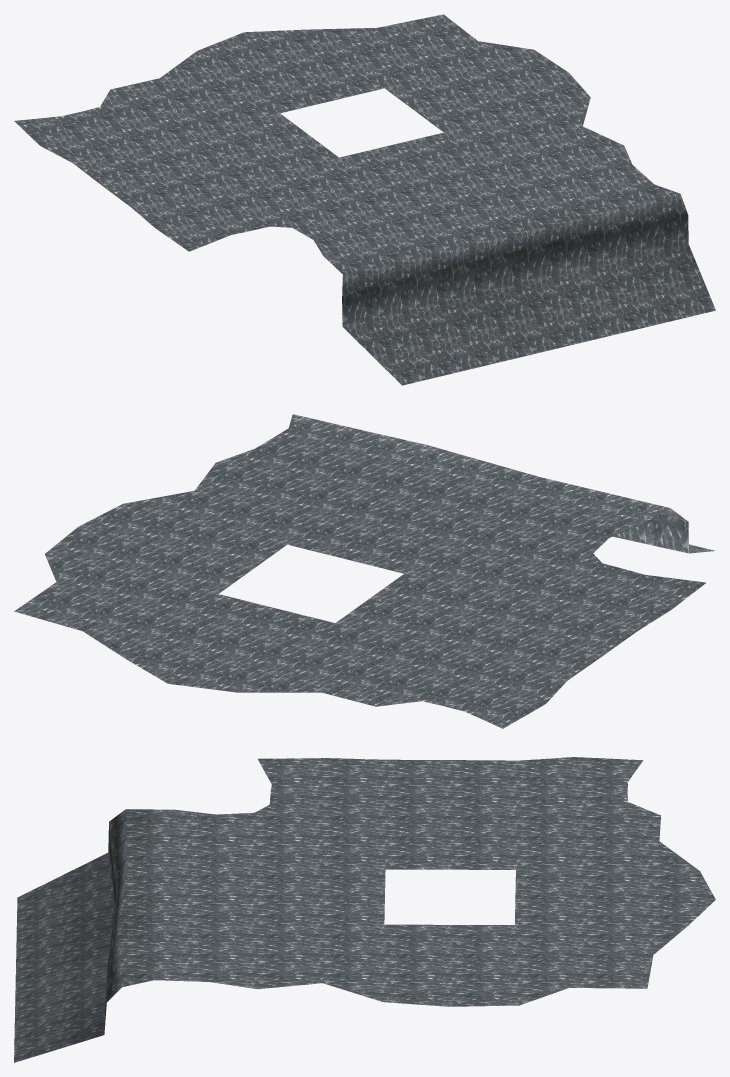
3 views of the same model, one above another, from view 1: azimuth 30°, elevation 25°; view 2: azimuth 150°, elevation 25°; view 3: azimuth 270°, elevation 25° (orthographic). The views are drawn at different scales.
Visible parts, largest first — view 1: ee1; view 2: ee1; view 3: ee1.
Part boxes in pixels (x1,y1,x2,y2): ee1: [14, 14, 715, 385]; ee1: [14, 414, 714, 728]; ee1: [14, 757, 715, 1062].
Size of the model in its own units: 1268 by 200 by 1506.
